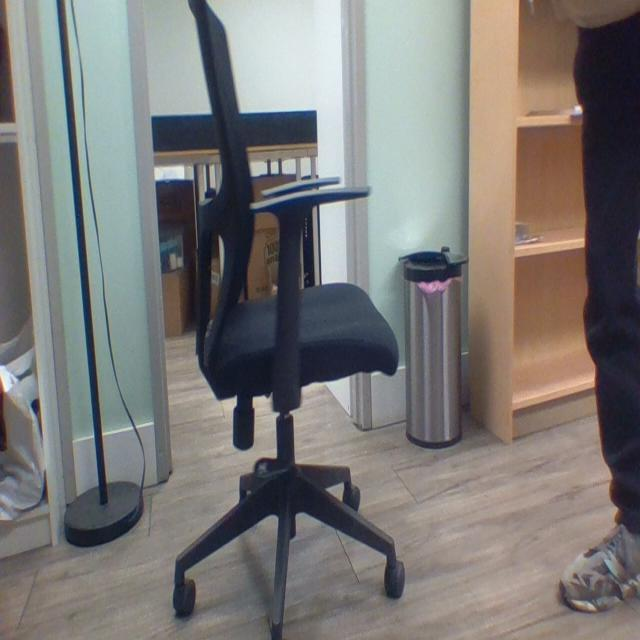chair: (182, 2, 400, 640)
